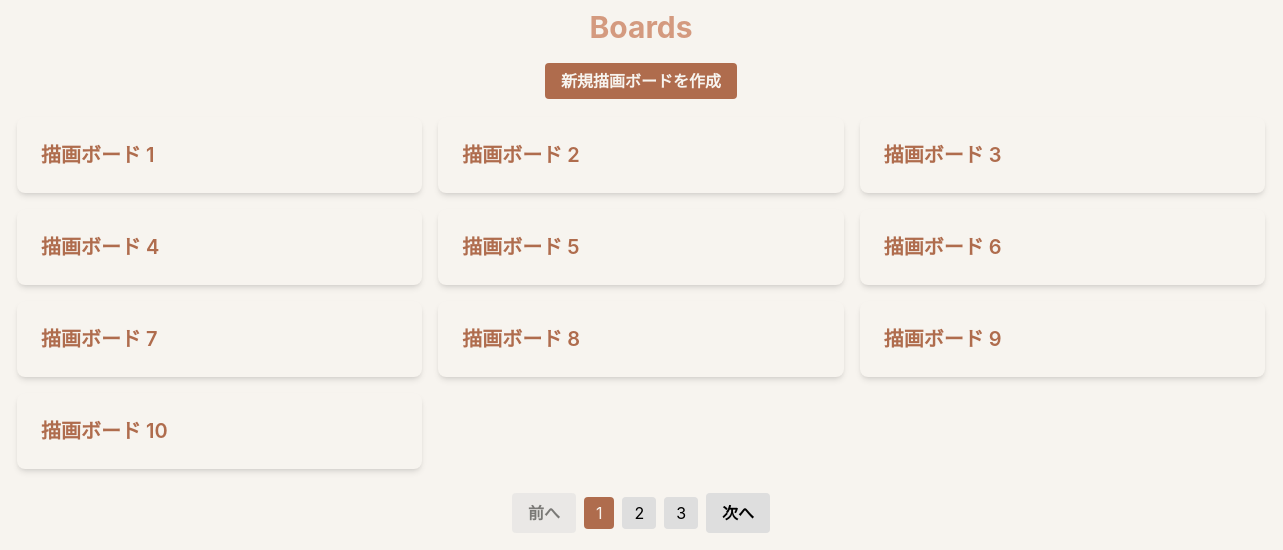
Scenario: DrawingList › 最後のページでは「次へ」ボタンが無効化されている
expect the text "描画ボード 1" is shown: met, box [41, 143, 154, 167]
Note: 2ページ目に移動
Click the button "2".
click(639, 513)  # box [622, 497, 656, 529]
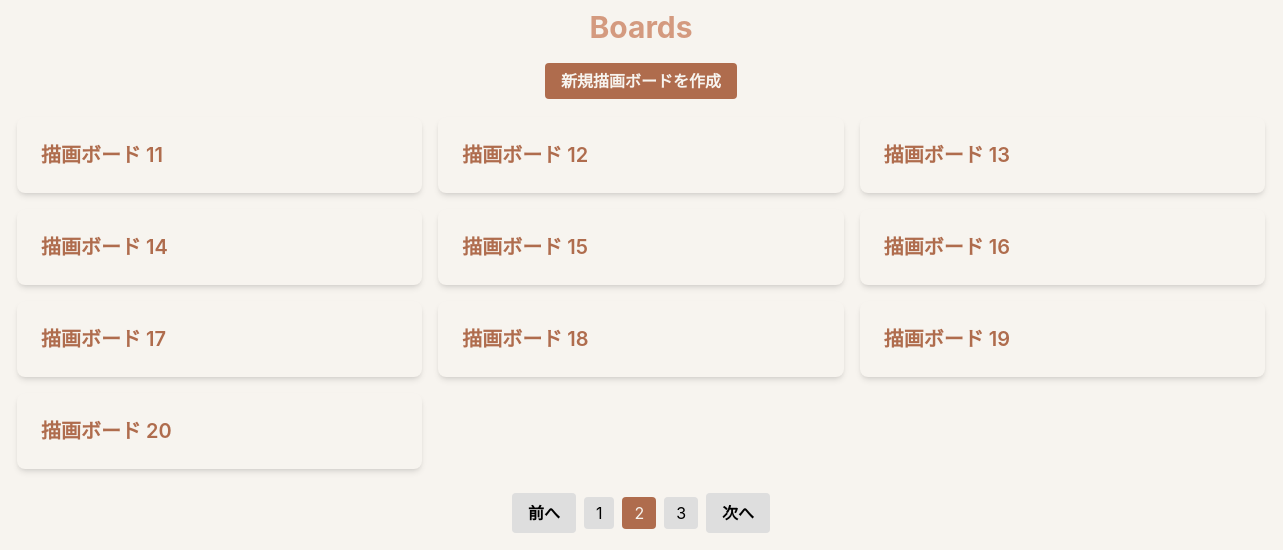
expect the text "描画ボード 11" is shown: met, box [41, 143, 163, 167]
Note: 3ページ目（最終ページ）に移動
Click the button "3".
click(681, 513)  # box [664, 497, 698, 529]
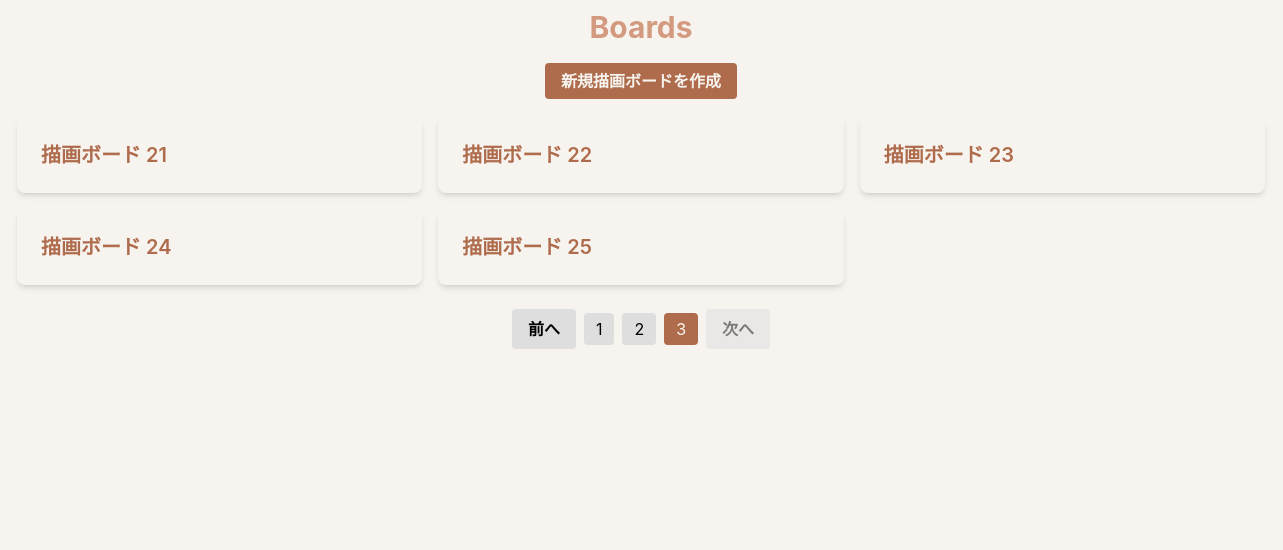
expect the text "描画ボード 21" is shown: met, box [41, 143, 167, 167]
expect the button "次へ" is disabled: met, box [706, 309, 770, 349]
